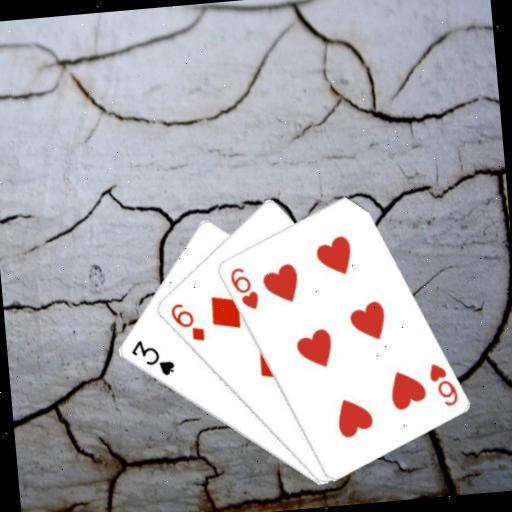3S: (126, 334, 177, 380)
6D: (166, 298, 207, 345)
6H: (225, 262, 261, 313), (424, 359, 460, 410)
